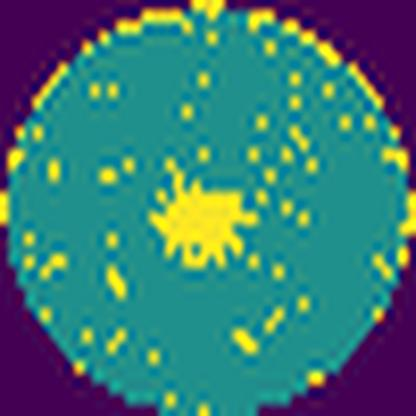Center: (150, 161, 260, 268)
